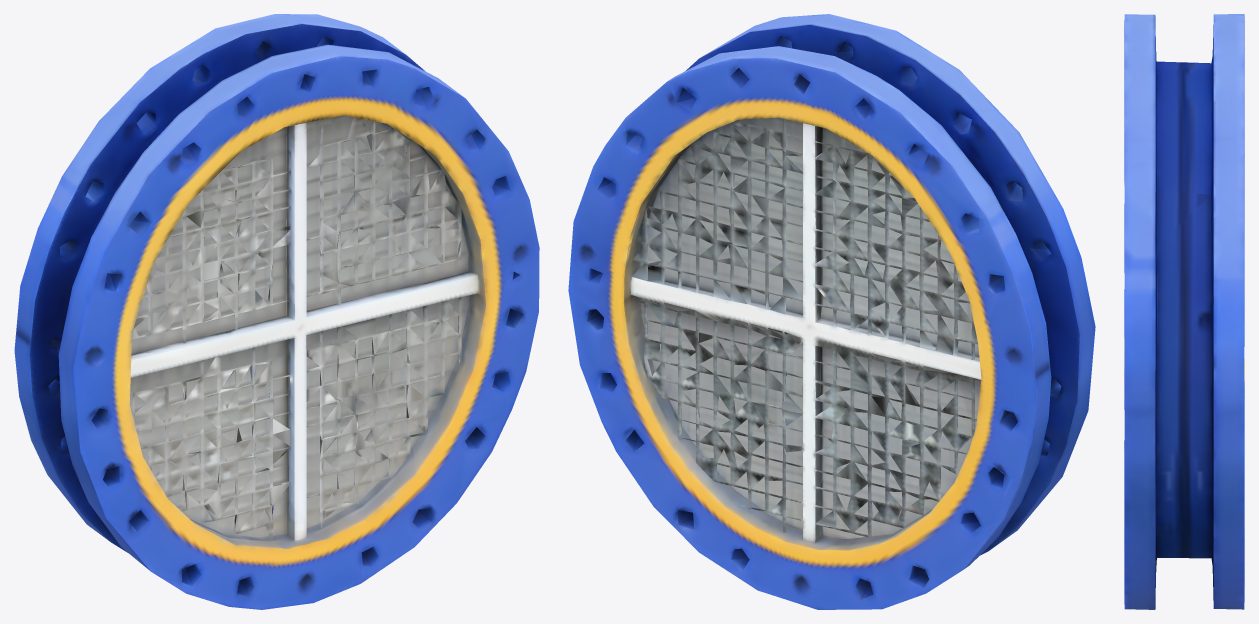
Rendered from Sin_nombre.fbx.
3 views of the same model, side by side, from view 1: azimuth 30°, elevation 25°; view 2: azimuth 150°, elevation 25°; view 3: azimuth 270°, elevation 25° (orthographic).
Parts seen in each view (by area): view 1: model; view 2: model; view 3: model.
Part boxes in pixels (x1,y1,x2,y2): model: (14,14,539,609); model: (568,14,1095,609); model: (1124,14,1244,609).
Bounding box in the file's own units: 169 × 187 × 37.13.
